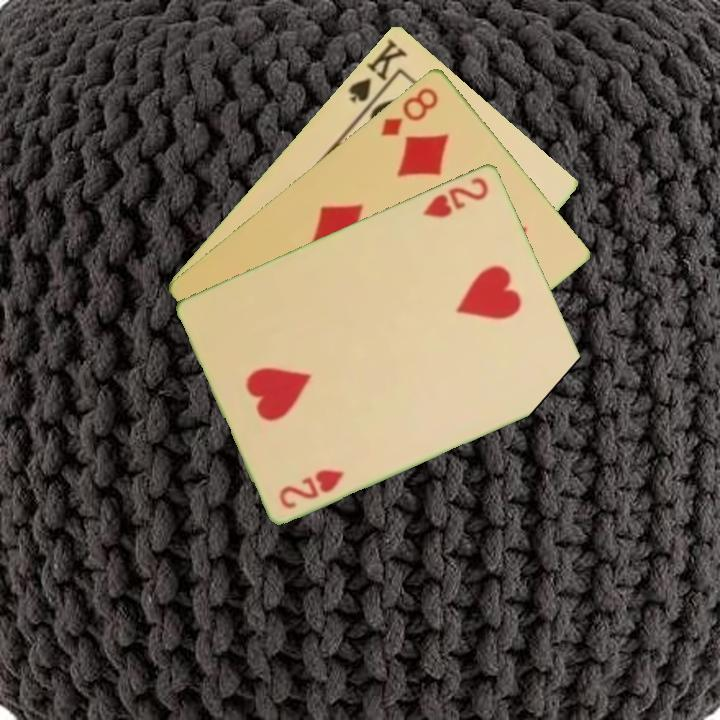2h: (419, 173, 492, 221), (275, 465, 348, 511)
8d: (377, 83, 442, 139)
Ks: (344, 34, 411, 115)
